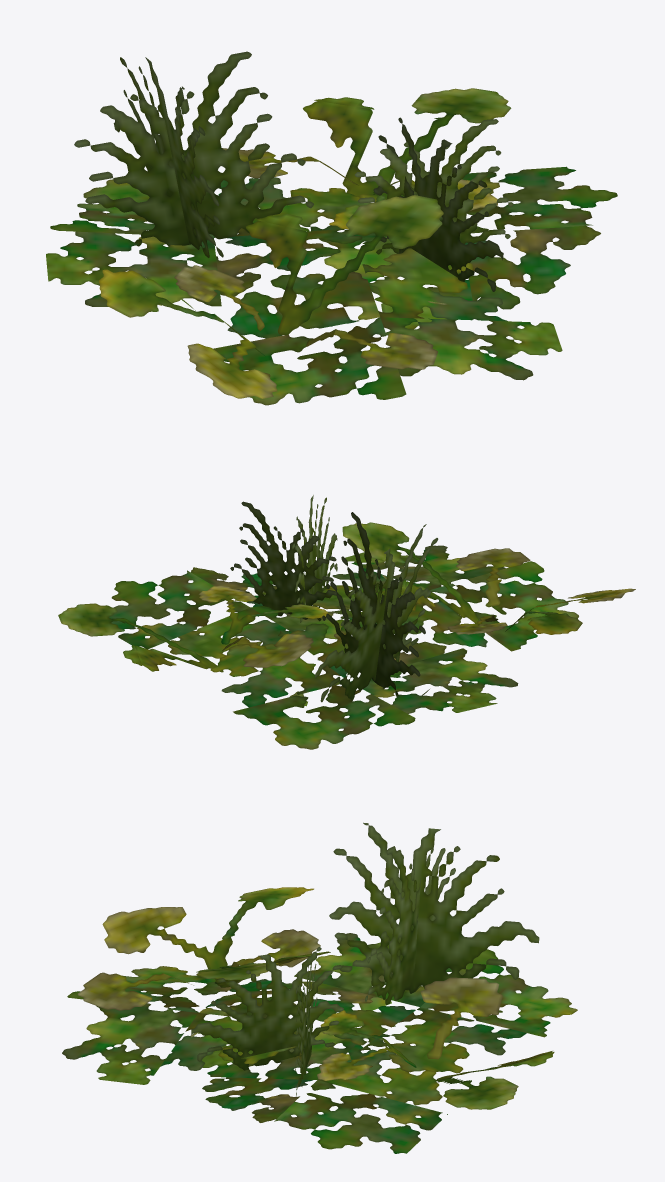
The model's file is forestfloor_2.obj.
The picture shows the model from 3 angles, top to bottom: view 1: azimuth 30°, elevation 25°; view 2: azimuth 150°, elevation 25°; view 3: azimuth 270°, elevation 25°; orthographic projection. The views are drawn at different scales.
Parts seen in each view (by area): view 1: plane, cube; view 2: plane, cube; view 3: plane, cube.
Part boxes in pixels (x1,y1,x2,y2): plane: (46, 88, 617, 405); cube: (74, 51, 513, 291); plane: (58, 522, 635, 749); cube: (230, 495, 438, 702); plane: (62, 887, 577, 1153); cube: (191, 822, 539, 1096).
Bounding box in the file's own units: 2.17 × 0.9868 × 2.23.
